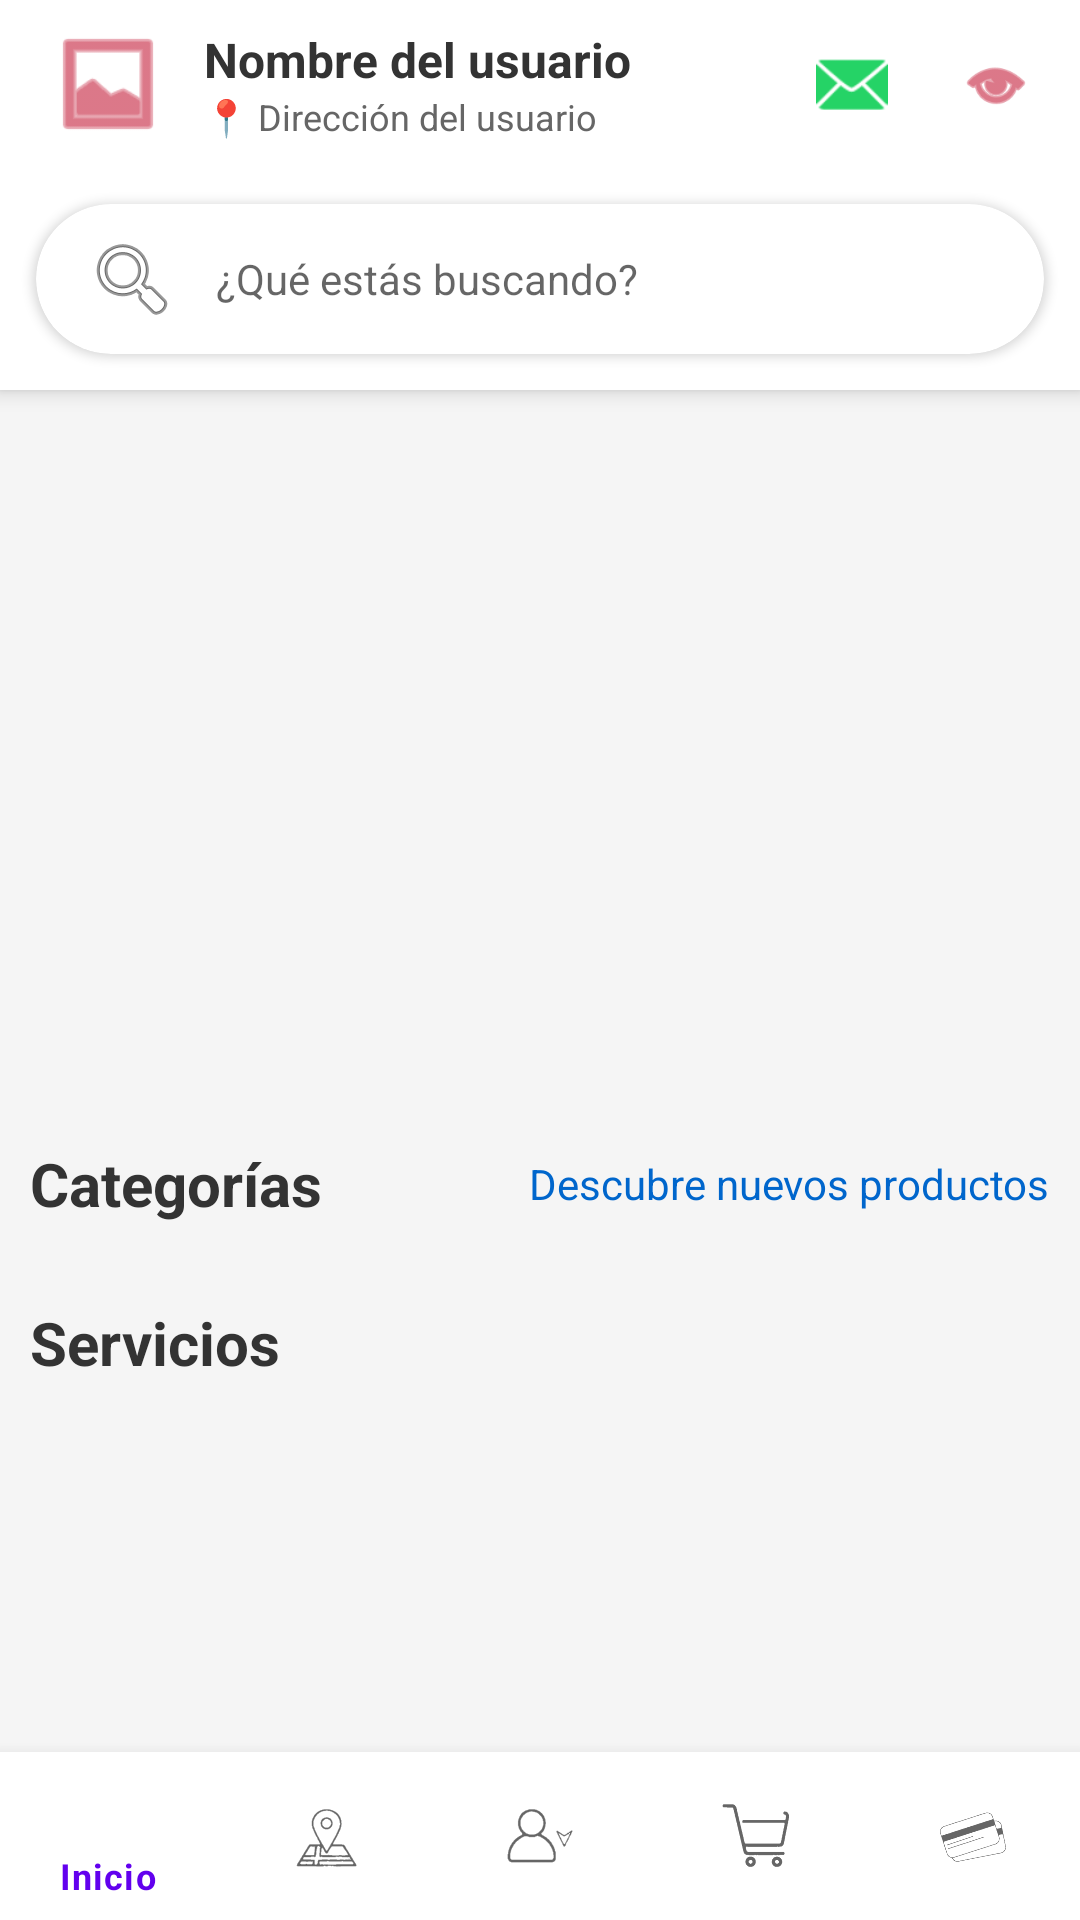

Named icons in this screenshot (1080px x 1920px) and their centers, [x,y]:
email: [852,84]
gallery: [108,84]
view: [996,85]
